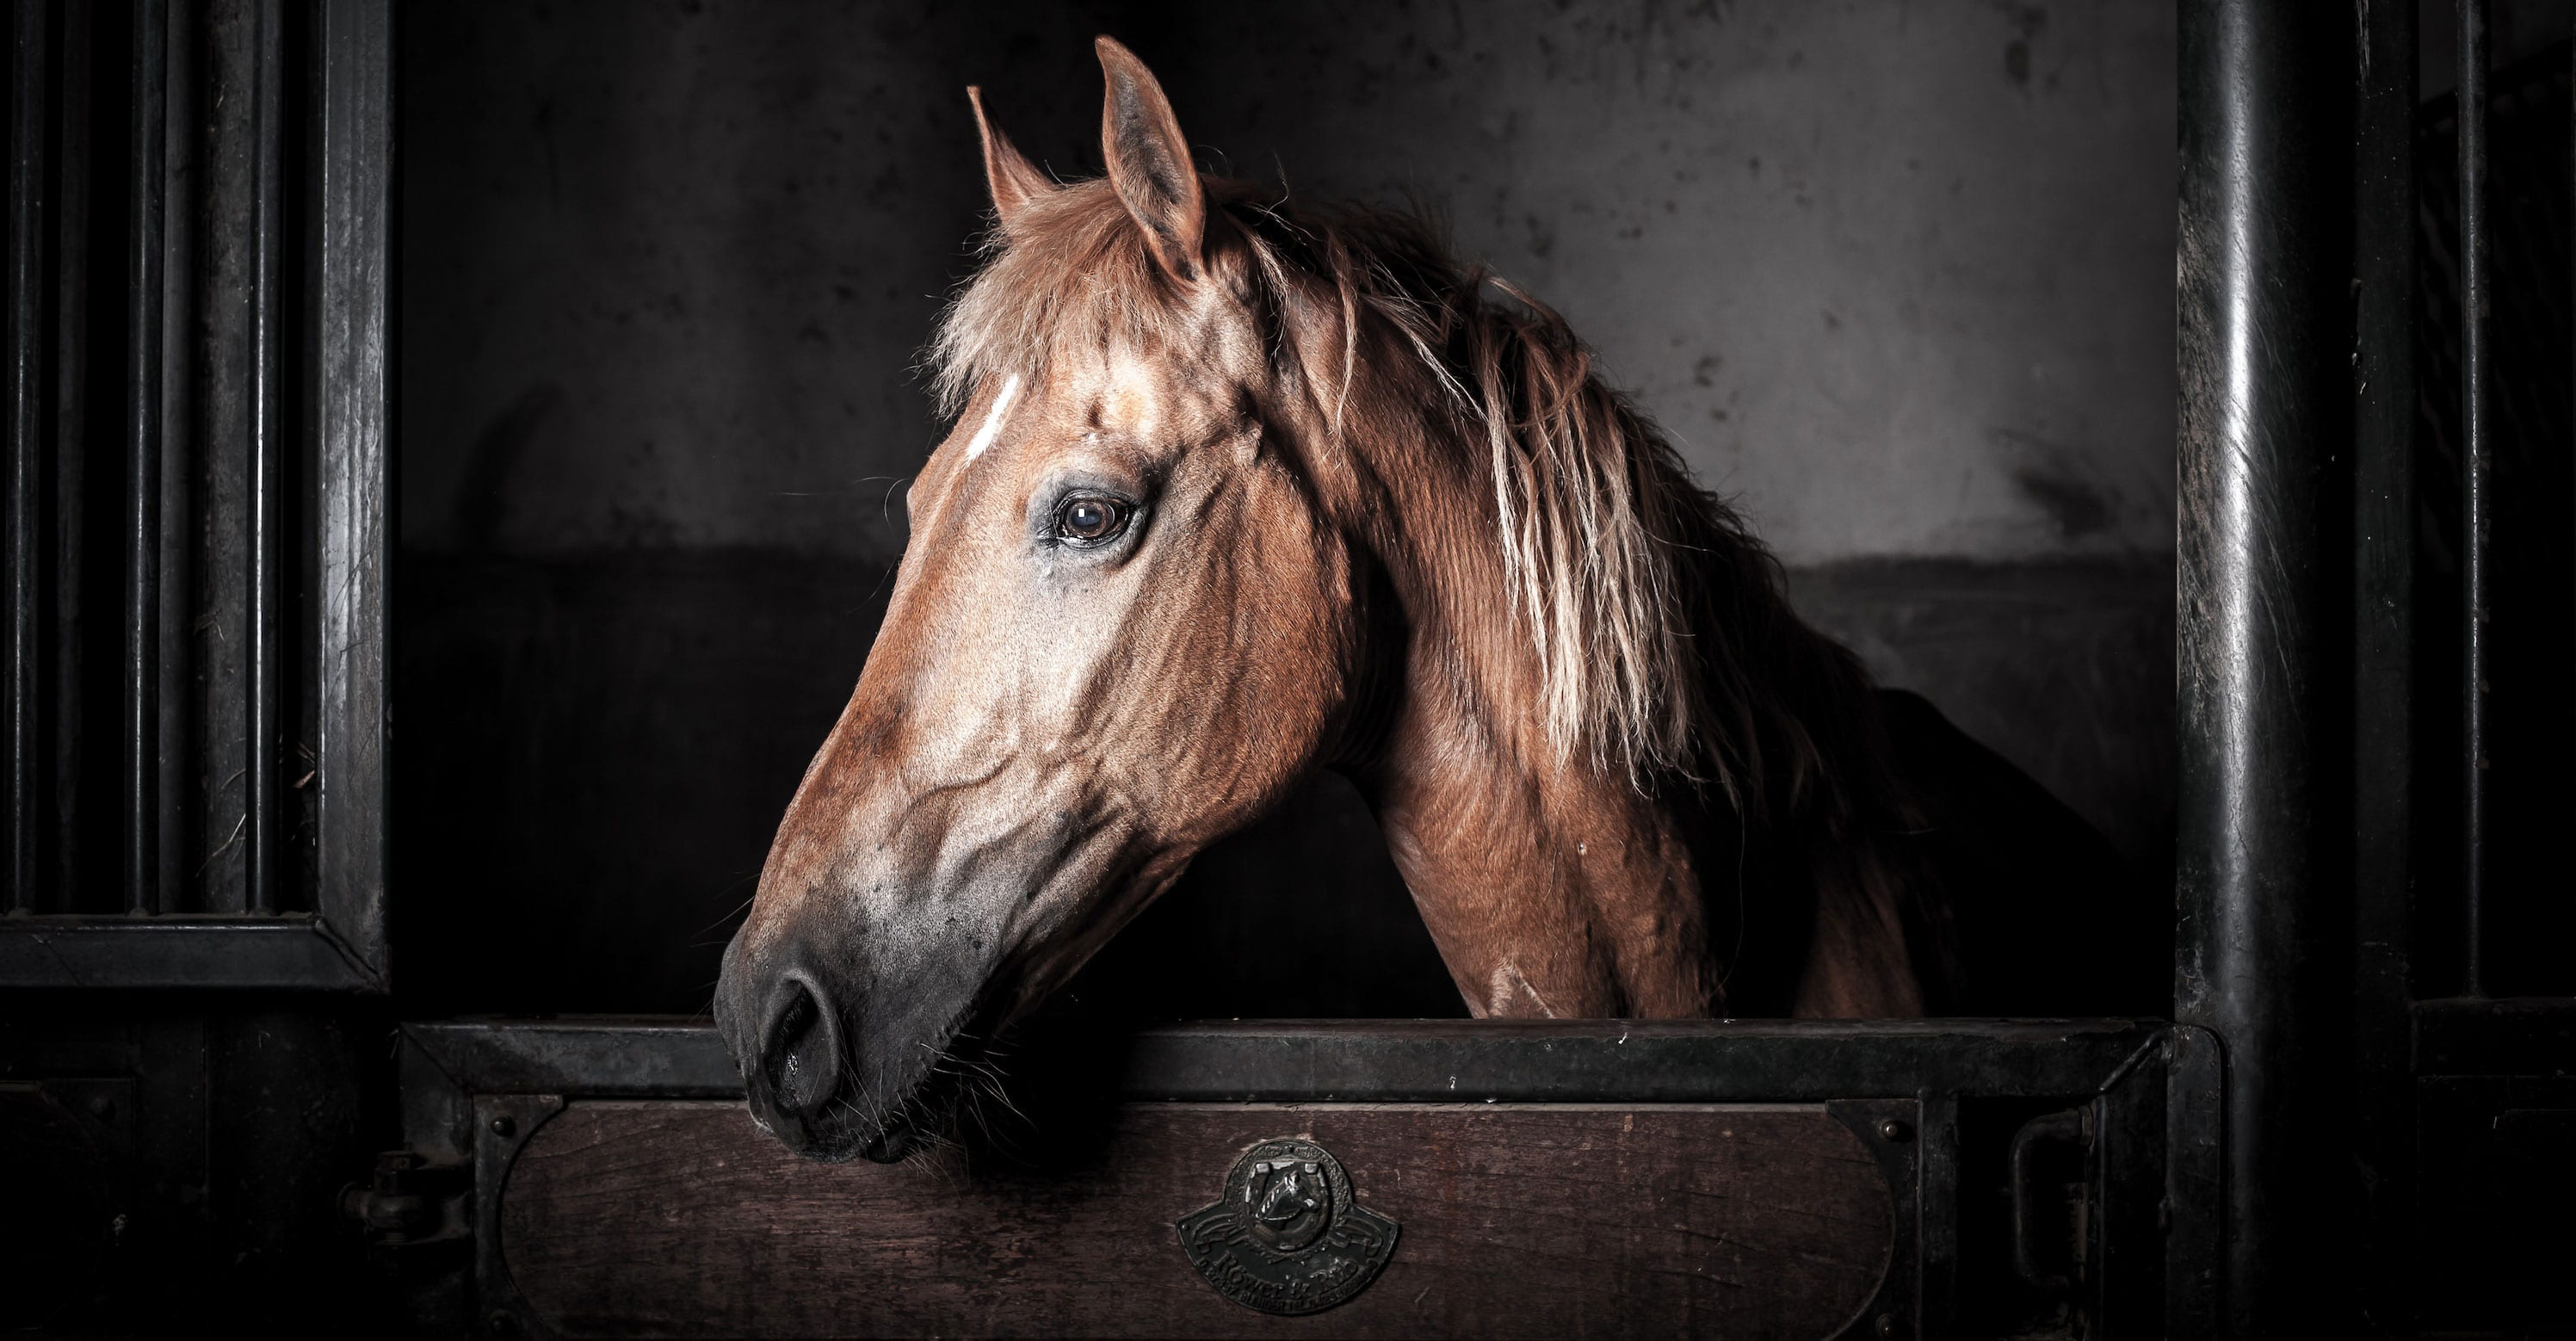Horse: (697, 85, 2118, 1169)
